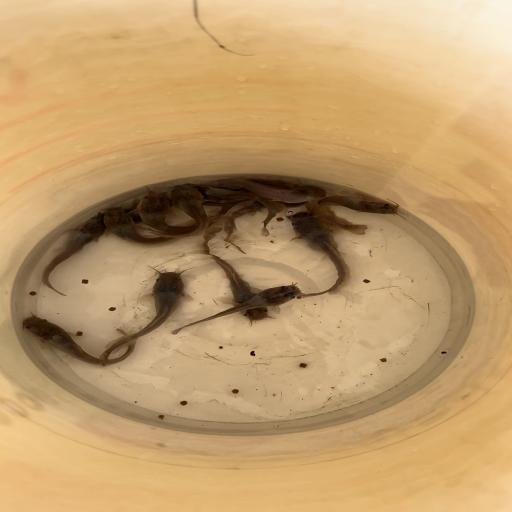lele: (95, 270, 187, 370), (166, 281, 306, 335), (17, 312, 137, 366), (38, 212, 114, 296), (196, 244, 274, 324), (284, 210, 353, 299), (124, 183, 210, 238), (194, 185, 273, 237), (307, 194, 402, 236), (134, 186, 213, 234), (204, 175, 327, 203), (98, 208, 180, 246), (222, 202, 268, 255)
